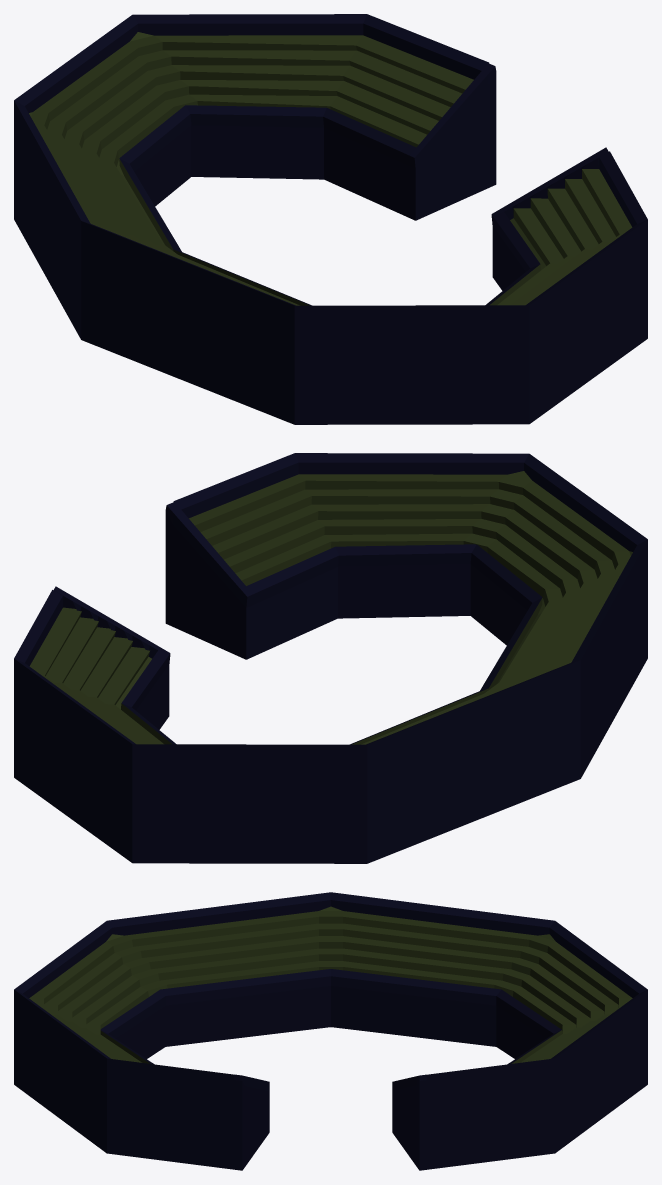
File: Carnival Tent Stands.fbx
The picture shows the model from 3 angles, top to bottom: view 1: azimuth 30°, elevation 25°; view 2: azimuth 150°, elevation 25°; view 3: azimuth 270°, elevation 25°; orthographic projection. The views are drawn at different scales.
Parts seen in each view (by area): view 1: Cylinder; view 2: Cylinder; view 3: Cylinder.
Part boxes in pixels (<box>): Cylinder: <box>14,14,647,424</box>; Cylinder: <box>14,453,647,863</box>; Cylinder: <box>14,892,647,1170</box>.
Bounding box in the file's own units: 312 × 75.5 × 456.
